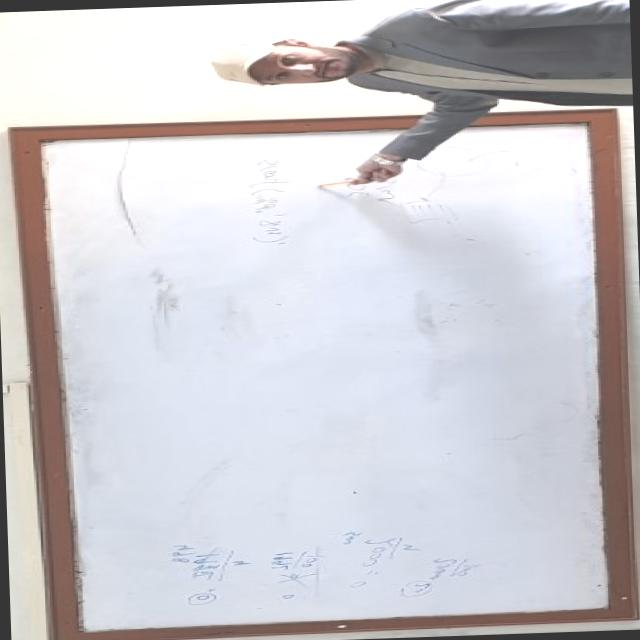Instructor: (180, 0, 631, 118)
White-board: (20, 114, 626, 638)
